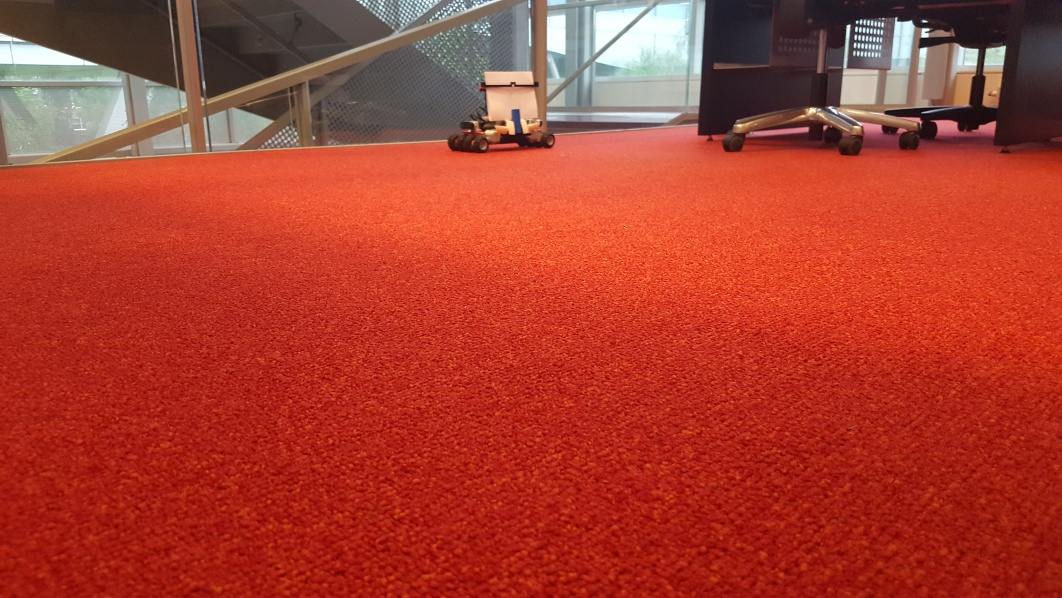car: (447, 72, 556, 153)
